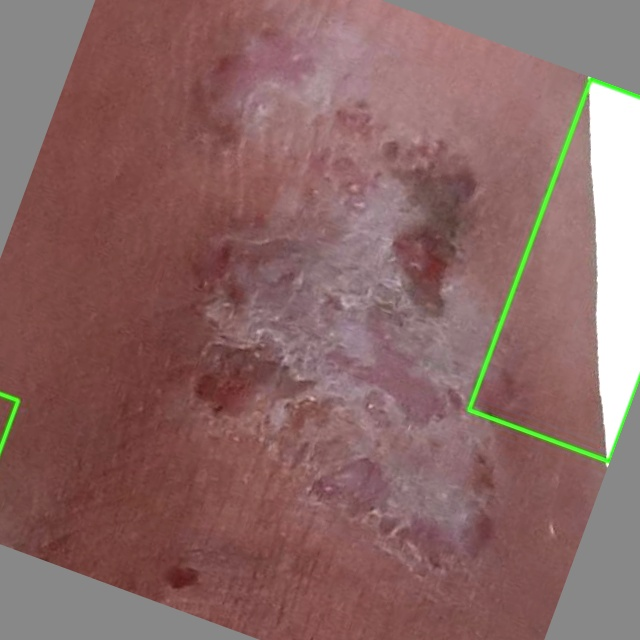Contact Dermatitis: (468, 78, 639, 461)
